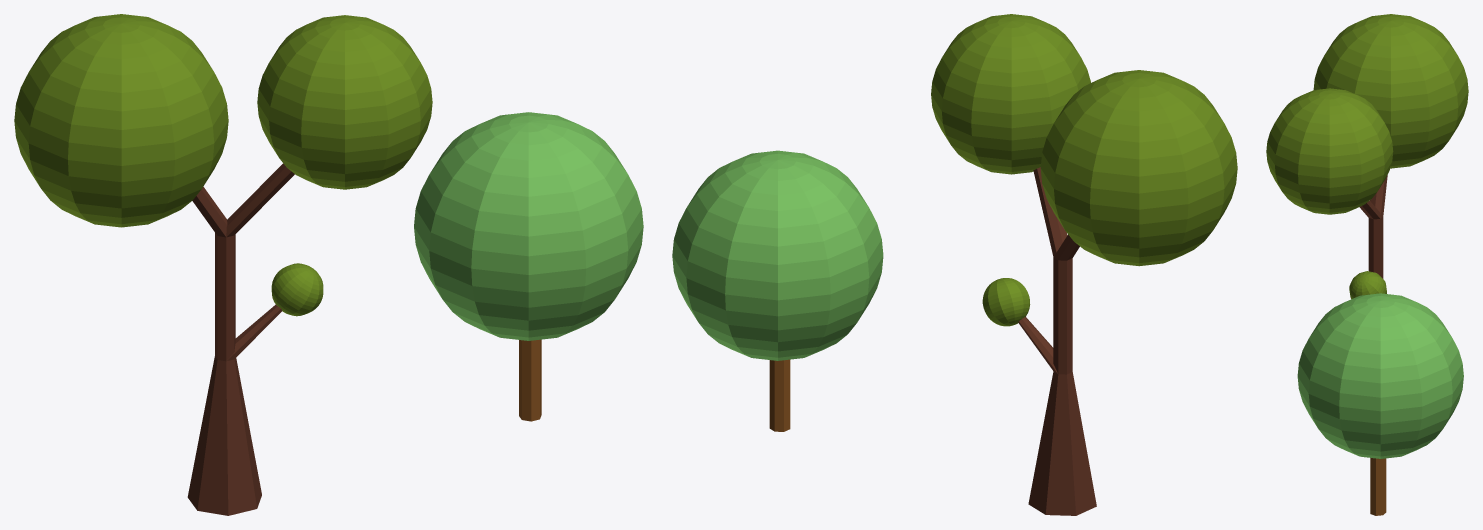
Rendered from Trees.fbx.
The picture shows the model from 3 angles, left to right: view 1: azimuth 30°, elevation 25°; view 2: azimuth 150°, elevation 25°; view 3: azimuth 270°, elevation 25°; orthographic projection. The views are drawn at different scales.
Visible parts, largest first — view 1: Cylinder.002, Cylinder.001; view 2: Cylinder.002, Cylinder.001; view 3: Cylinder.002, Cylinder.001.
Boxes of the visible parts, left/top/right/bottom form: Cylinder.002: left=14, top=14, right=432, bottom=515; Cylinder.001: left=414, top=112, right=643, bottom=421; Cylinder.002: left=931, top=14, right=1237, bottom=515; Cylinder.001: left=672, top=150, right=883, bottom=431; Cylinder.002: left=1266, top=14, right=1468, bottom=298; Cylinder.001: left=1297, top=293, right=1463, bottom=515.
Bounding box in the file's own units: 5.36 × 4.24 × 2.19.
